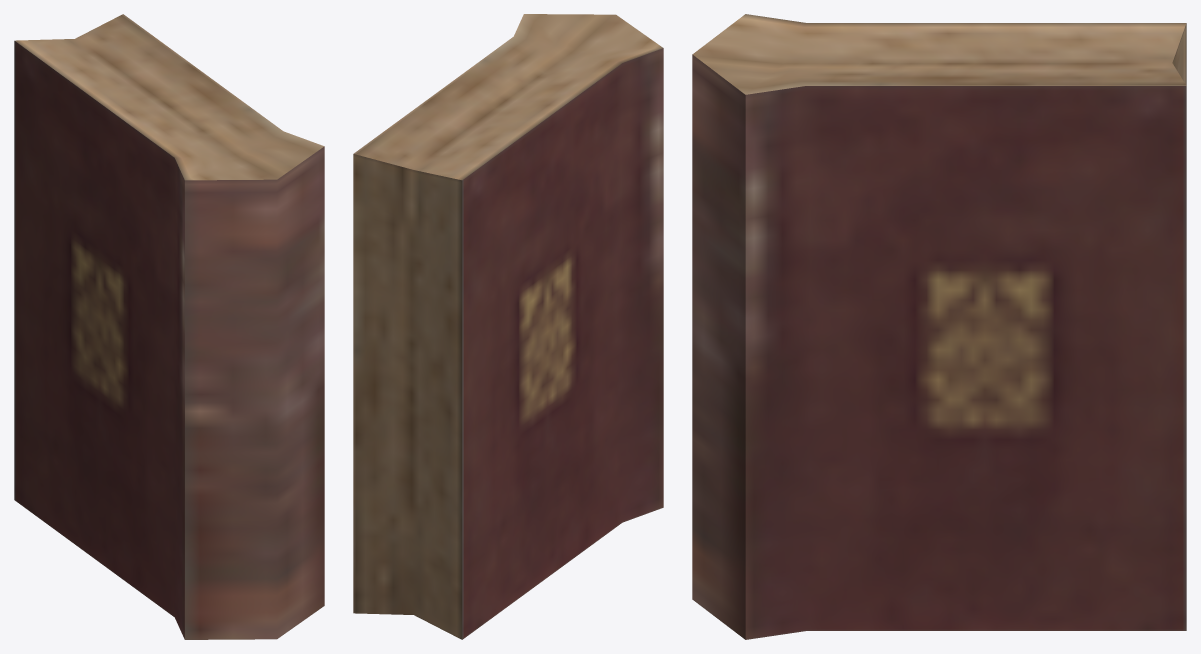
Rendered from Book_C.fbx.
3 views of the same model, side by side, from view 1: azimuth 30°, elevation 25°; view 2: azimuth 150°, elevation 25°; view 3: azimuth 270°, elevation 25° (orthographic). The views are drawn at different scales.
Parts seen in each view (by area): view 1: Book_C; view 2: Book_C; view 3: Book_C.
Boxes of the visible parts, x1=… form: Book_C: x1=14, y1=14, x2=324, y2=639; Book_C: x1=353, y1=14, x2=663, y2=639; Book_C: x1=692, y1=14, x2=1186, y2=639.
Bounding box in the file's own units: 0.0264 × 0.0831 × 0.0682.
